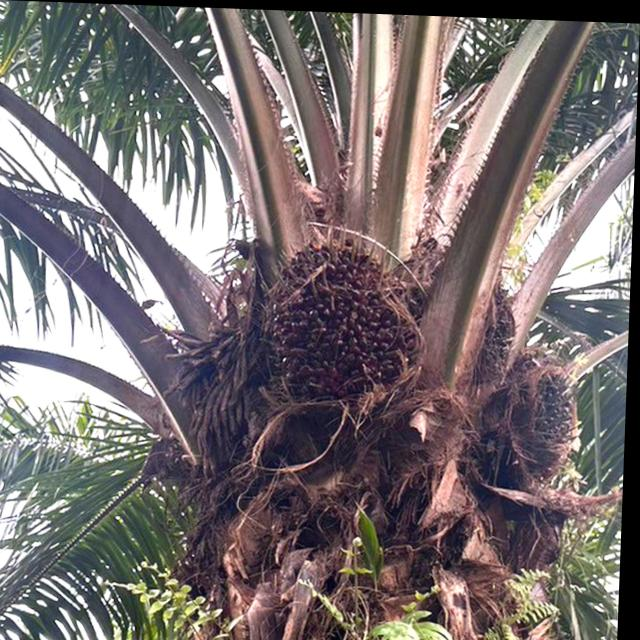ripe: (242, 212, 450, 415)
